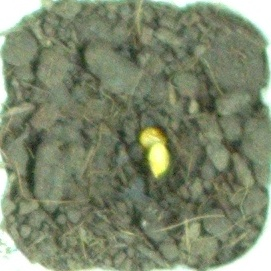chilli seed: (145, 141, 172, 177), (138, 126, 171, 149)
